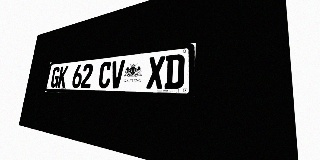2: (80, 63, 94, 88)
6: (71, 64, 84, 88)
C: (98, 61, 112, 88)
D: (164, 54, 185, 89)
G: (50, 67, 61, 88)
K: (57, 66, 68, 88)
V: (109, 60, 125, 88)
X: (146, 56, 165, 89)
